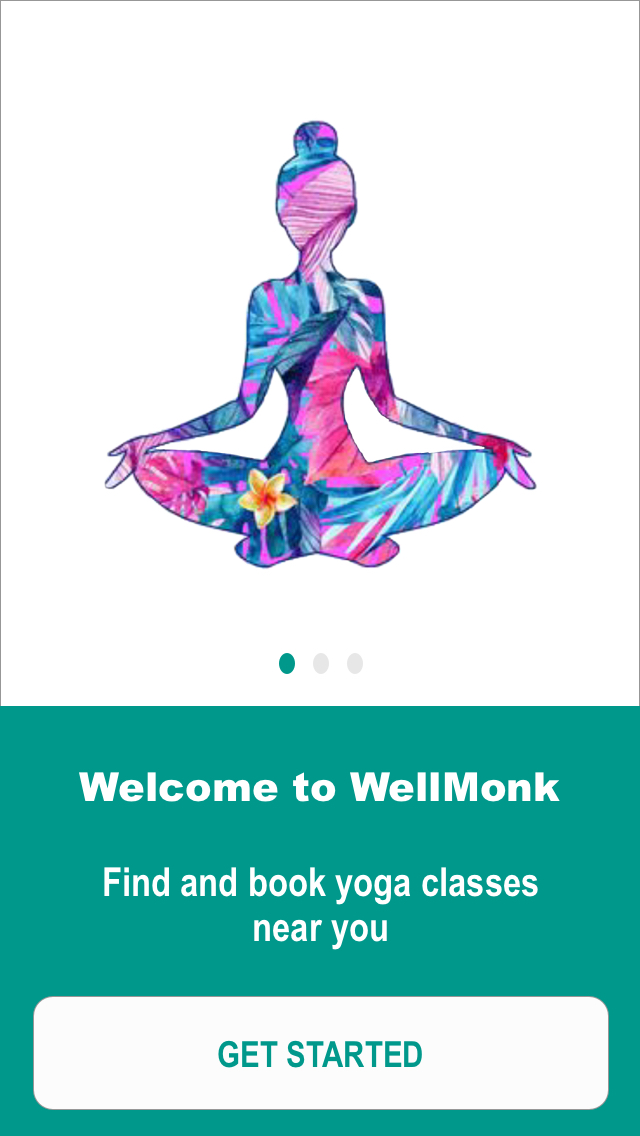Image: (103, 122, 537, 570)
PageIndicator: (279, 652, 364, 675)
Text: (104, 866, 539, 950), (79, 771, 560, 802)
TextButton: (34, 996, 609, 1110)
